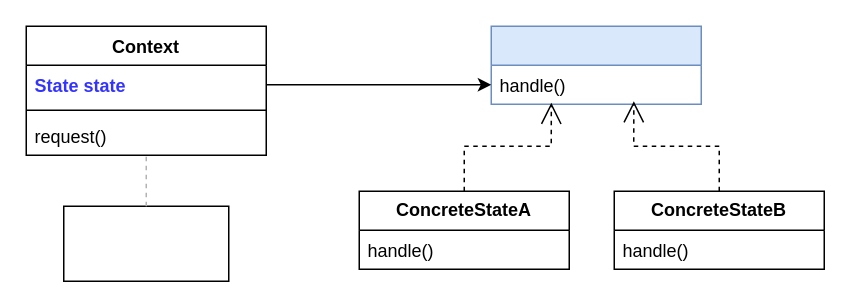
Image size: 851x308. Some labels were removed from this diagram. Here are the shapes that lost their labels. From the top down, the box of each, then its label:
(490, 25, 701, 104): State
(62, 205, 229, 281): state.handle() 실행
